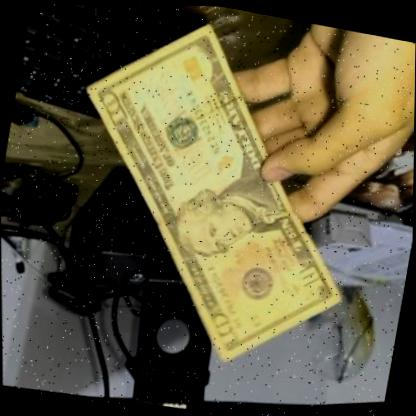ten-front: (28, 1, 397, 416)
